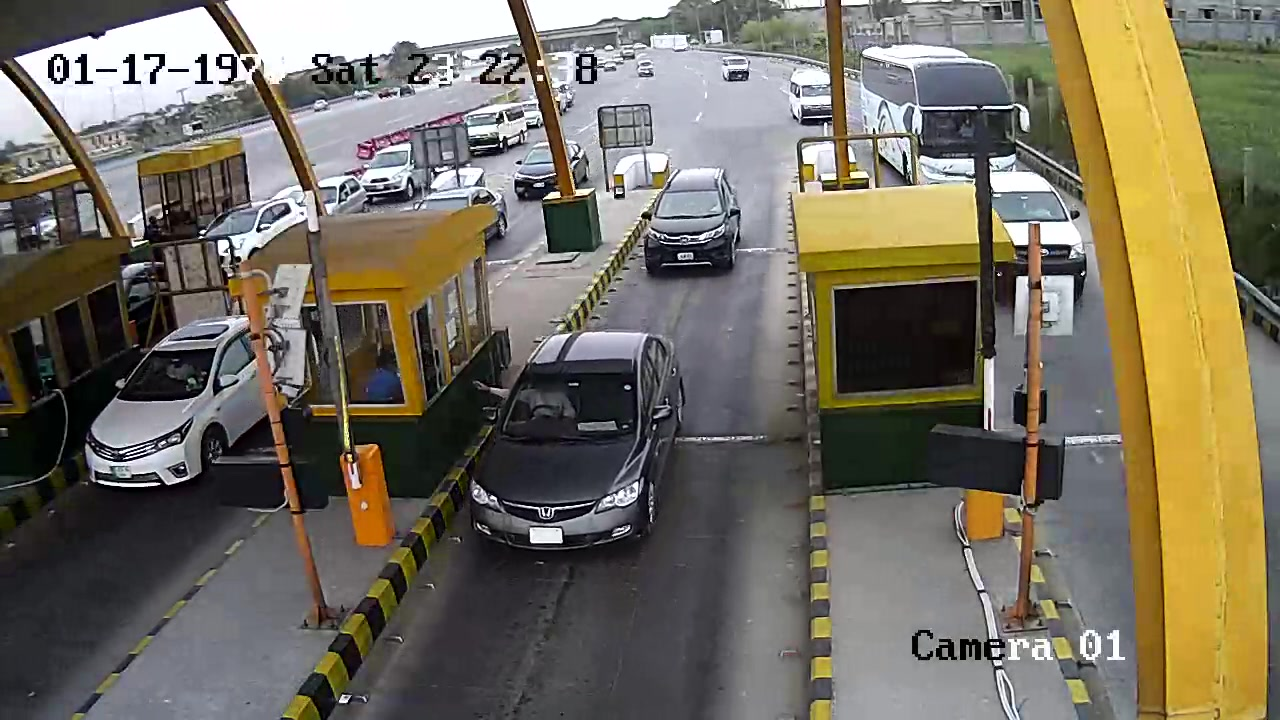F1: (460, 322, 699, 578)
